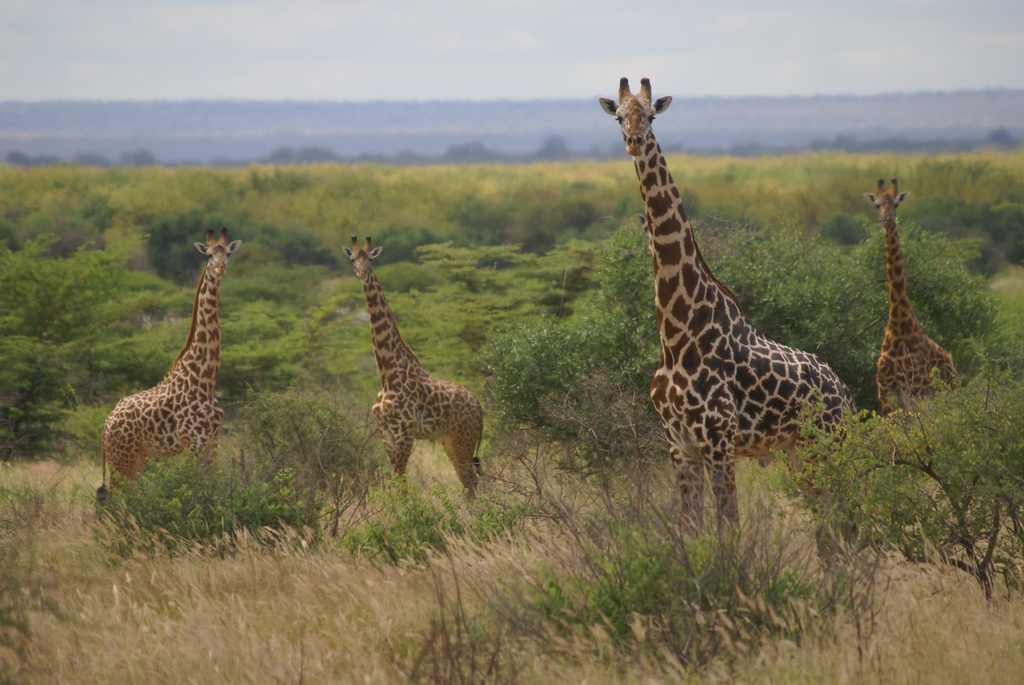giraffe: (584, 38, 923, 534), (324, 199, 526, 518), (84, 222, 268, 513)
